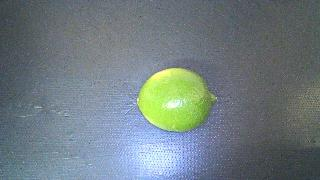EXPORTACION: (137, 68, 217, 132)
